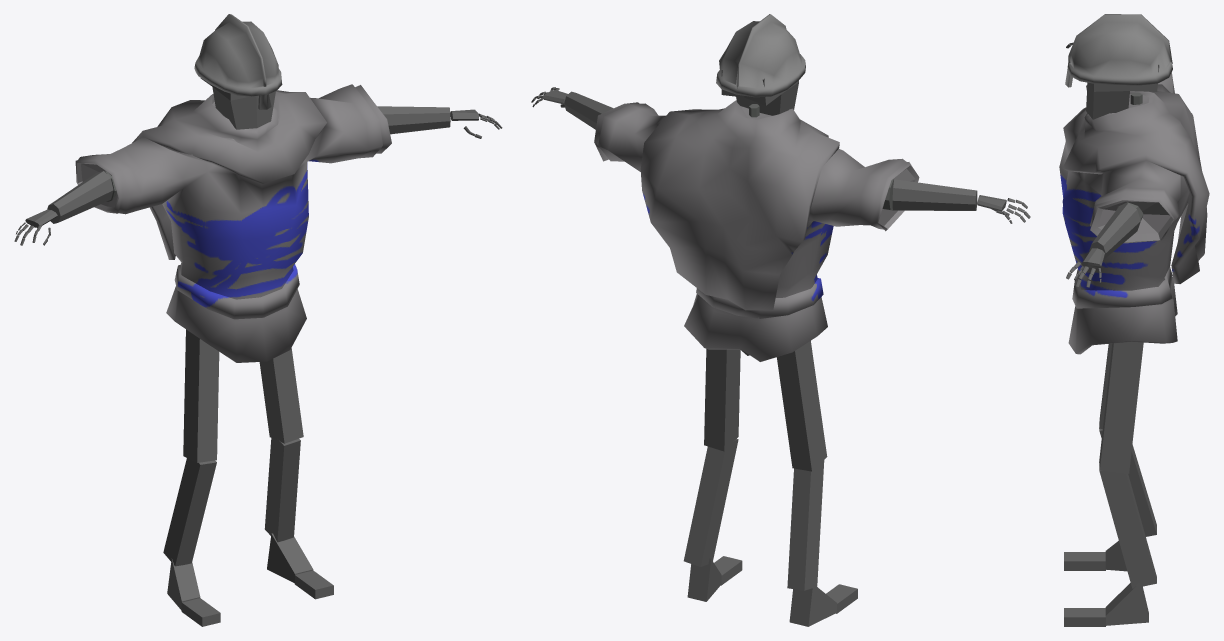
The model's file is viking 1.fbx.
3 views of the same model, side by side, from view 1: azimuth 30°, elevation 25°; view 2: azimuth 150°, elevation 25°; view 3: azimuth 270°, elevation 25° (orthographic). The views are drawn at different scales.
Parts seen in each view (by area): view 1: node_id82, node_id72, node_id80, node_id70, node_id74; view 2: node_id82, node_id72, node_id80, node_id70, node_id74; view 3: node_id82, node_id72, node_id80, node_id70, node_id74, node_id76.
Part boxes in pixels (x1=…): node_id82: x1=75, y1=84, x2=391, y2=362; node_id72: x1=163, y1=329, x2=333, y2=626; node_id80: x1=194, y1=14, x2=282, y2=109; node_id70: x1=14, y1=106, x2=502, y2=245; node_id74: x1=200, y1=78, x2=275, y2=129; node_id82: x1=594, y1=100, x2=919, y2=361; node_id72: x1=683, y1=341, x2=857, y2=626; node_id80: x1=716, y1=14, x2=805, y2=97; node_id70: x1=531, y1=87, x2=1030, y2=223; node_id74: x1=721, y1=69, x2=798, y2=115; node_id82: x1=1059, y1=72, x2=1209, y2=354; node_id72: x1=1064, y1=341, x2=1156, y2=626; node_id80: x1=1065, y1=14, x2=1172, y2=87; node_id70: x1=1066, y1=42, x2=1140, y2=287; node_id74: x1=1086, y1=64, x2=1159, y2=119; node_id76: x1=1117, y1=92, x2=1143, y2=220.
Size of the model in its own units: 0.4538 by 0.5117 by 0.1202.
Materials: 6 (2 with a texture image).
